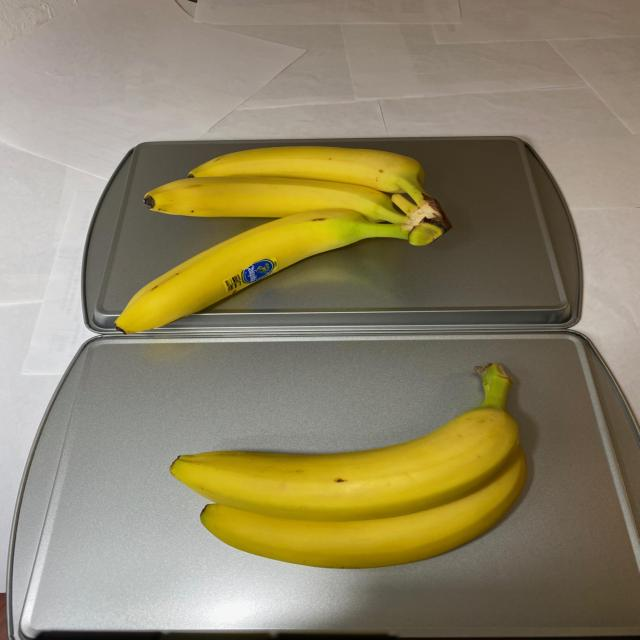banana: (160, 359, 538, 571), (106, 146, 454, 337)
